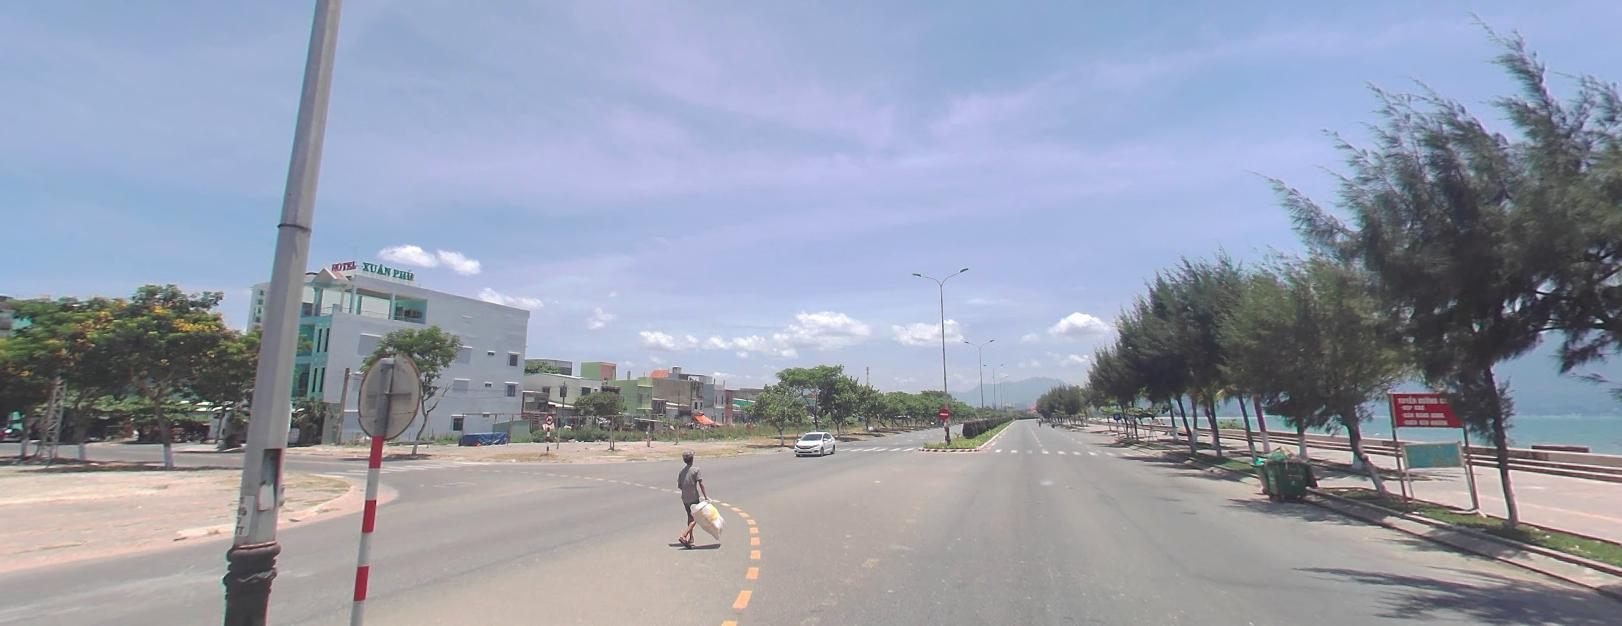Cam con lai: (545, 412, 553, 422)
Cam nguoc chieu: (938, 407, 949, 417)
